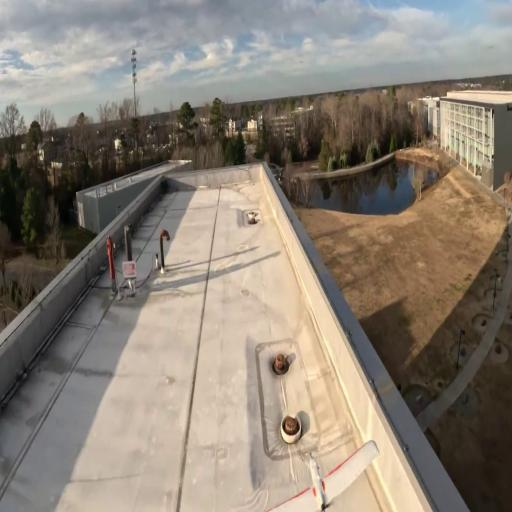uav: (268, 436, 382, 512)
